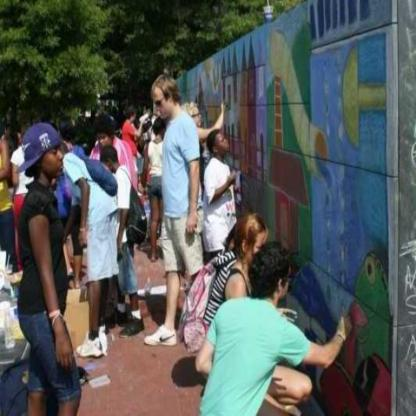face: (250, 228, 268, 263), (44, 146, 64, 176), (155, 90, 170, 121), (278, 267, 293, 296), (216, 133, 231, 154), (98, 133, 112, 151), (192, 109, 202, 129), (133, 112, 138, 123)
